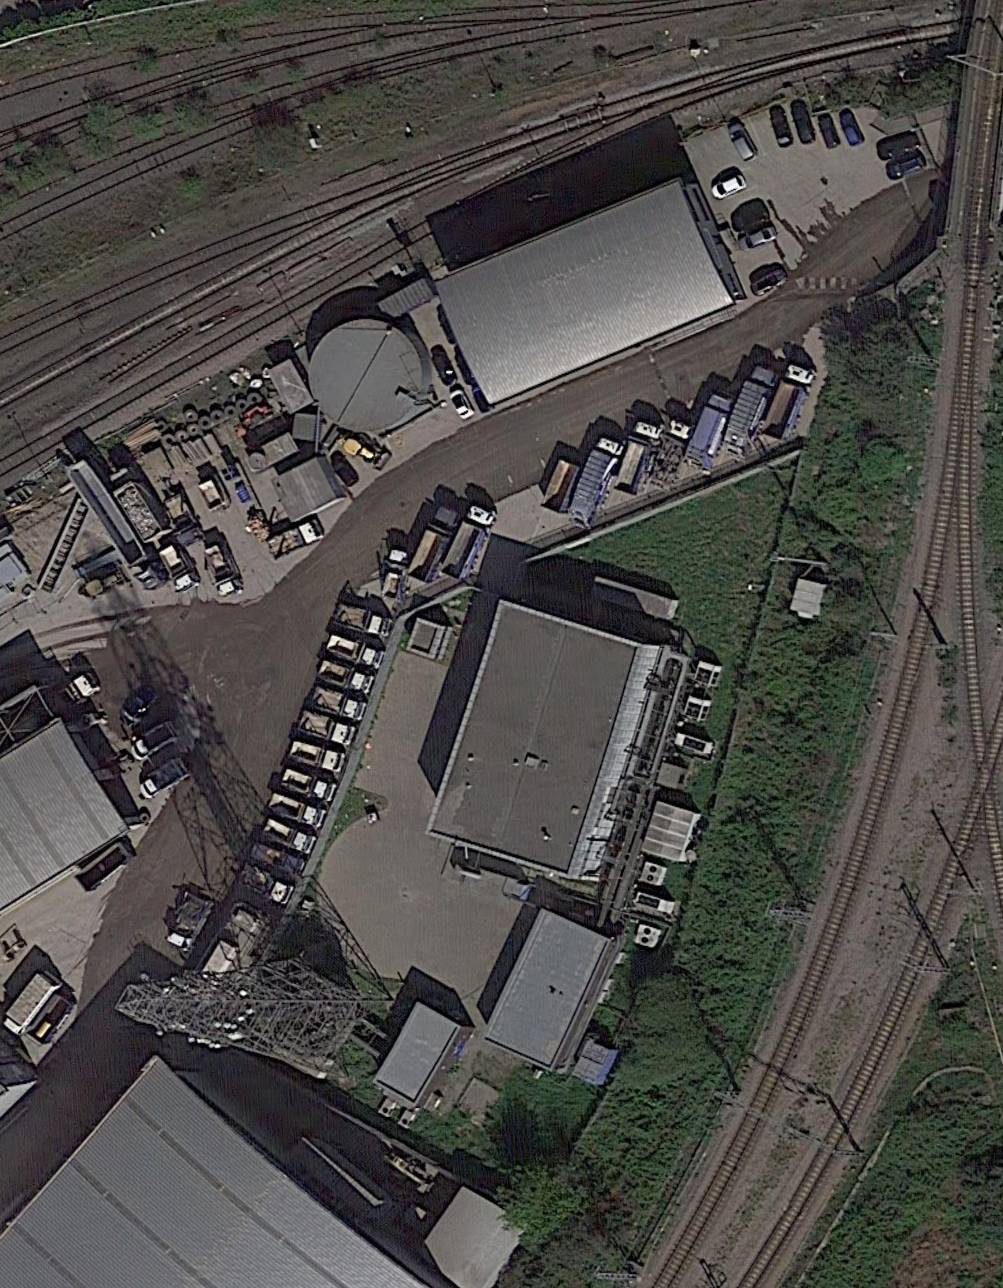large vehicle: (719, 364, 782, 462), (565, 433, 625, 530), (682, 387, 740, 477), (404, 502, 465, 587), (439, 502, 497, 585), (759, 362, 818, 442), (639, 417, 697, 494), (612, 418, 666, 496), (165, 890, 216, 955), (41, 669, 102, 721), (263, 515, 327, 564), (323, 629, 388, 674), (201, 535, 246, 599), (236, 862, 297, 909), (294, 708, 358, 752), (138, 755, 193, 806), (263, 790, 329, 832), (307, 684, 370, 728), (156, 539, 203, 597), (127, 717, 182, 766), (312, 655, 376, 696), (247, 839, 307, 881), (286, 737, 347, 777), (330, 601, 394, 638), (377, 546, 417, 605), (258, 817, 316, 856), (279, 768, 339, 804)
small vehicle: (726, 121, 759, 163), (886, 150, 927, 182), (749, 266, 789, 297), (789, 100, 817, 144), (737, 226, 778, 254), (709, 173, 748, 202), (837, 109, 866, 147), (769, 106, 794, 146), (449, 389, 476, 422), (818, 115, 842, 149)
